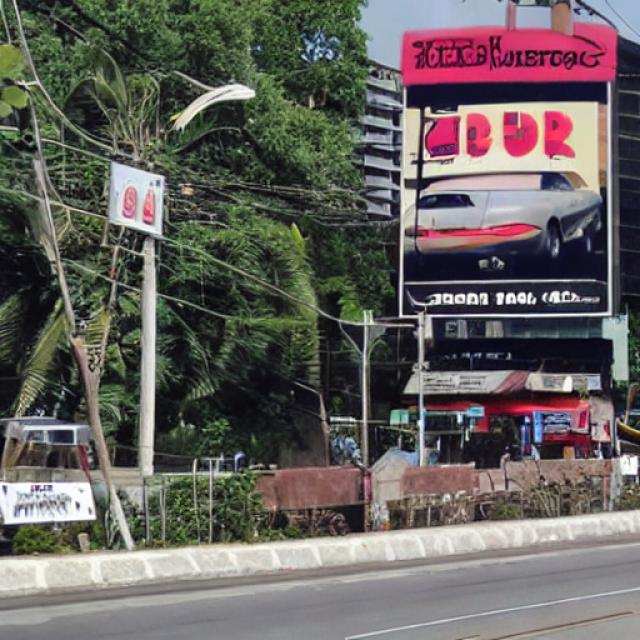Billboard: (398, 29, 617, 321)
